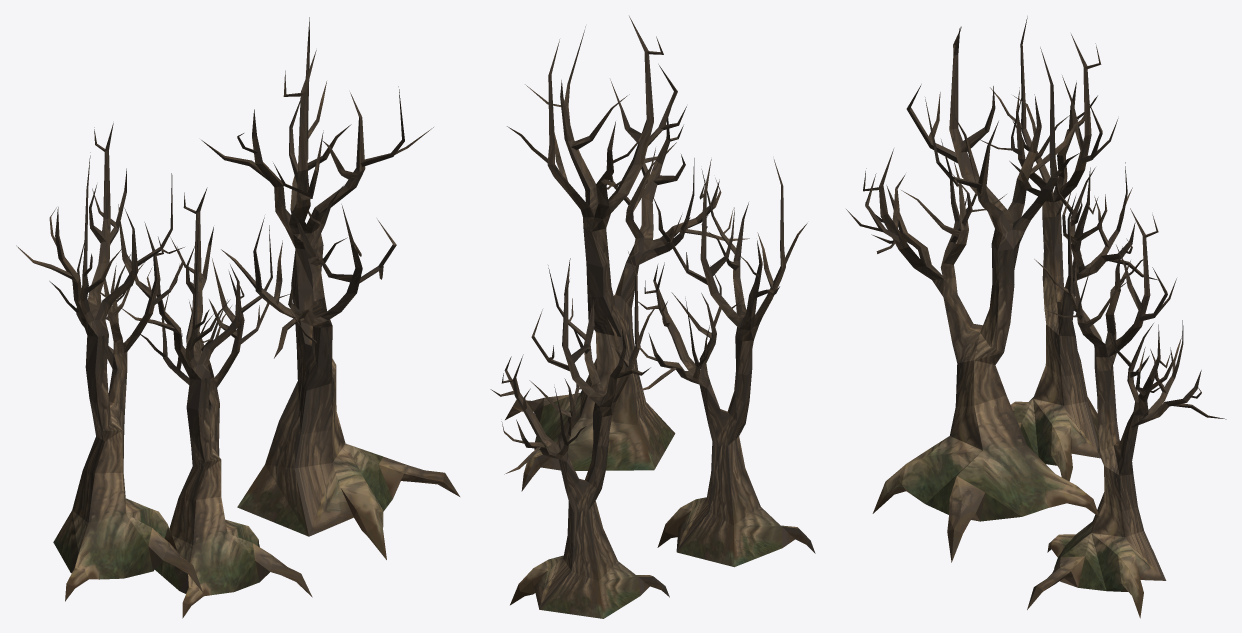
The model's file is plants_tall_tree_trunks2.fbx.
The picture shows the model from 3 angles, left to right: view 1: azimuth 30°, elevation 25°; view 2: azimuth 150°, elevation 25°; view 3: azimuth 270°, elevation 25°; orthographic projection. The views are drawn at different scales.
Parts seen in each view (by area): view 1: obj0.151; view 2: obj0.151; view 3: obj0.151.
Boxes of the visible parts, bbox=[...] form: obj0.151: bbox=[16, 17, 459, 618]; obj0.151: bbox=[490, 16, 815, 618]; obj0.151: bbox=[846, 16, 1226, 618].
Bounding box in the file's own units: 9.35 × 14.04 × 8.47.
